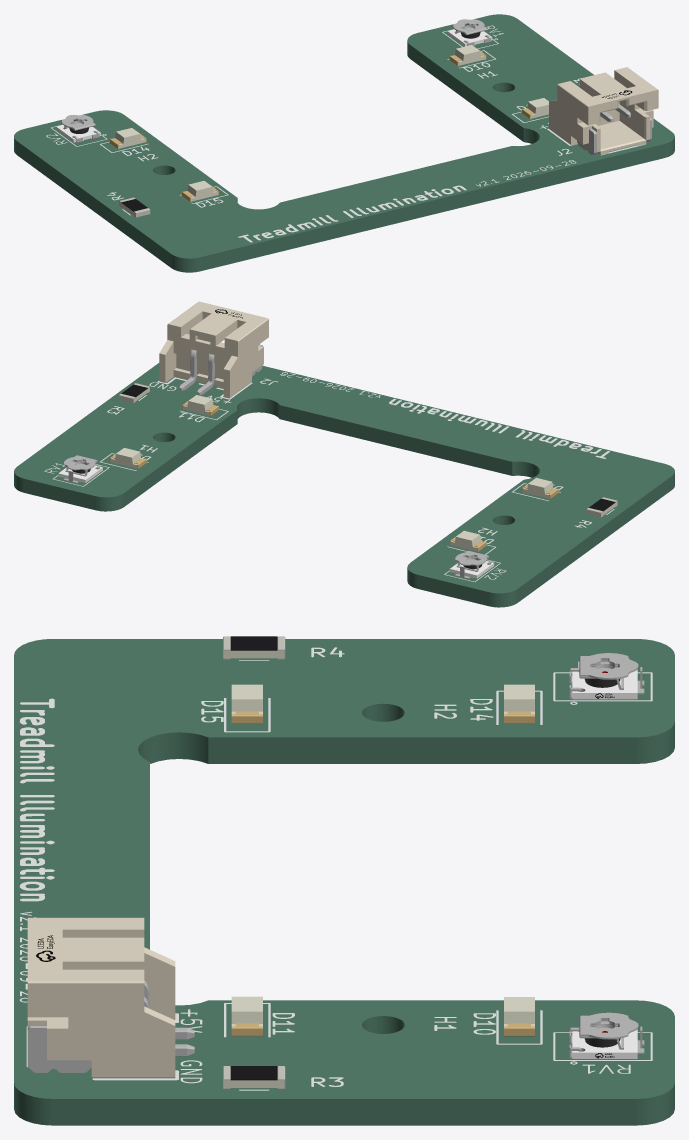
File: Treadmill-Illumination-2-v2.1.glb
3 views of the same model, one above another, from view 1: azimuth 30°, elevation 25°; view 2: azimuth 150°, elevation 25°; view 3: azimuth 270°, elevation 25° (orthographic). The views are drawn at different scales.
Parts seen in each view (by area): view 1: =>[0:1:1:12], =>[0:1:1:9], =>[0:1:1:10], =>[0:1:1:5] (×4), =>[0:1:1:7] (×2), =>[0:1:1:3]; view 2: =>[0:1:1:12], =>[0:1:1:9], =>[0:1:1:10], =>[0:1:1:5] (×4), =>[0:1:1:7] (×2); view 3: =>[0:1:1:12], =>[0:1:1:9], =>[0:1:1:10], =>[0:1:1:7] (×2), =>[0:1:1:5] (×4), =>[0:1:1:3] (×2).
Part boxes in pixels (left/top/right/bottom): =>[0:1:1:12]: left=14, top=14, right=674, bottom=272; =>[0:1:1:9]: left=549, top=67, right=658, bottom=155; =>[0:1:1:10]: left=46, top=25, right=645, bottom=242; =>[0:1:1:5] (×4): left=109, top=45, right=548, bottom=202; =>[0:1:1:7] (×2): left=56, top=19, right=492, bottom=143; =>[0:1:1:3]: left=119, top=197, right=150, bottom=217; =>[0:1:1:12]: left=14, top=363, right=674, bottom=607; =>[0:1:1:9]: left=159, top=301, right=268, bottom=398; =>[0:1:1:10]: left=44, top=372, right=614, bottom=581; =>[0:1:1:5] (×4): left=109, top=395, right=558, bottom=552; =>[0:1:1:7] (×2): left=58, top=455, right=494, bottom=578; =>[0:1:1:12]: left=14, top=639, right=674, bottom=1125; =>[0:1:1:9]: left=27, top=917, right=194, bottom=1078; =>[0:1:1:10]: left=19, top=647, right=652, bottom=1090; =>[0:1:1:7] (×2): left=569, top=653, right=644, bottom=1058; =>[0:1:1:5] (×4): left=231, top=684, right=534, bottom=1036; =>[0:1:1:3] (×2): left=223, top=636, right=285, bottom=1088.
Size of the model in its own units: 0.056 by 0.00717 by 0.034.
